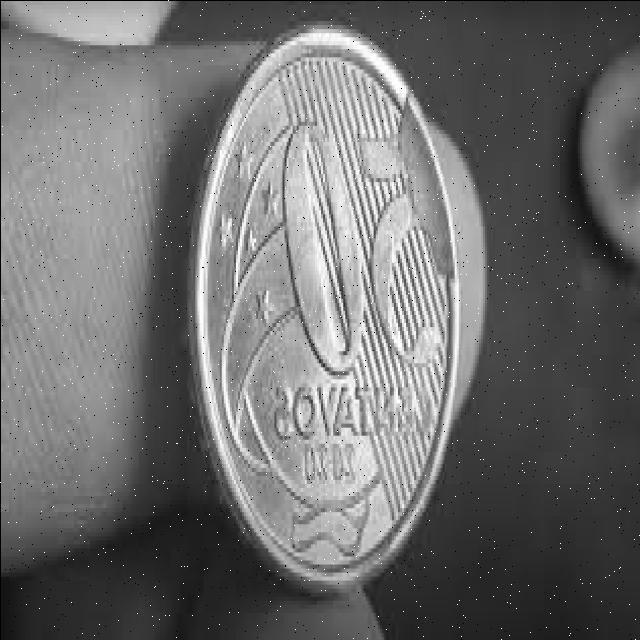50 cent: (184, 22, 456, 592)
